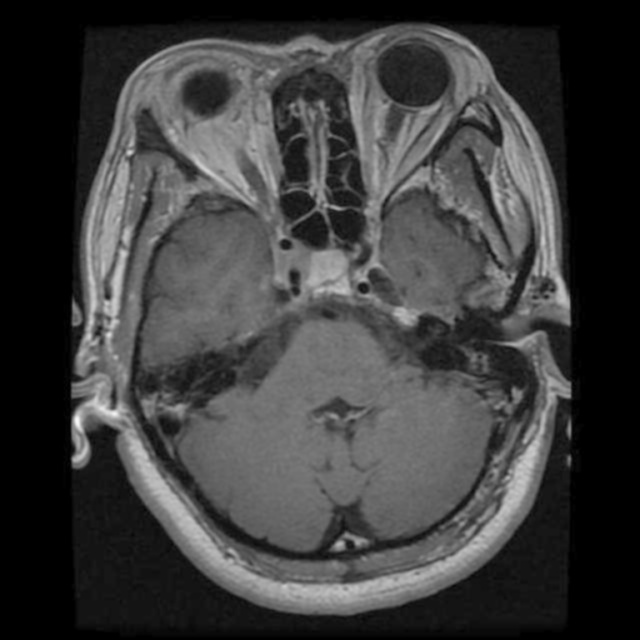no tumor: (308, 249, 354, 300)
